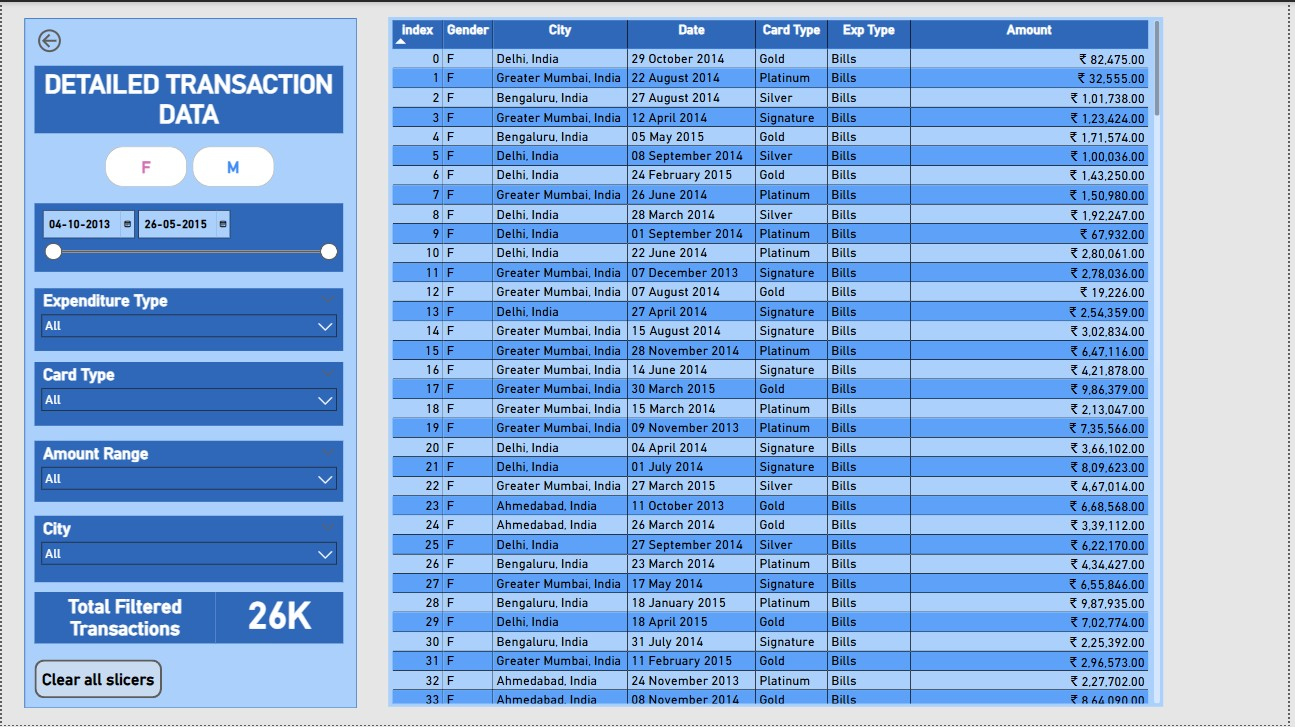

The dashboard page shown, as its layout file describes it:
{"tool":"powerbi","page":{"name":"Page 2","canvas":[1920,1080],"ordinal":1},"visuals":[{"type":"card","fields":{"Values":["Indian_credit_card.count"]},"box":[319.1,880.7,190.3,76.5],"z":0,"group":"g1"},{"type":"shape","box":[33.6,24.3,496.3,1030],"z":0},{"type":"textbox","box":[48.5,880.7,270.6,76.5],"z":1000,"group":"g1"},{"type":"slicer","fields":{"Values":["Indian_credit_card.Date"]},"box":[48.5,300.4,460.9,102.6],"z":1000},{"type":"advancedSlicerVisual","fields":{"Values":["Indian_credit_card.Gender"]},"box":[149.3,210.9,263.1,70.9],"z":2000},{"type":"slicer","fields":{"Values":["Indian_credit_card.Exp Type"]},"box":[48.5,427.3,460.9,93.3],"z":3000},{"type":"slicer","fields":{"Values":["Indian_credit_card.Card Type"]},"box":[48.5,537.4,460.9,95.2],"z":4000},{"type":"slicer","fields":{"Values":["Indian_credit_card.Amount_Range"]},"box":[48.5,654.9,460.9,91.4],"z":5000},{"type":"tableEx","fields":{"Values":["Indian_credit_card.index","Indian_credit_card.Gender","Indian_credit_card.City","Indian_credit_card.Date","Indian_credit_card.Card Type","Indian_credit_card.Exp Type","Indian_credit_card.Amount"]},"box":[576.6,22.4,1156.9,1030],"z":6000},{"type":"slicer","fields":{"Values":["Indian_credit_card.Text Before Delimiter"]},"box":[48.5,766.9,460.9,98.9],"z":7000},{"type":"actionButton","box":[48.5,981.5,190.3,57.8],"z":8000},{"type":"textbox","box":[48.5,95.2,460.9,100.8],"z":9000},{"type":"actionButton","box":[48.5,35.5,56,44.8],"z":10000},{"type":"group","id":"g1","title":"Group 1","box":[48.5,880.7,460.9,76.5],"z":11000}]}

Visuals, with their boxes in screenshot pixels (x1, y1, x2, y2), scaled from the page's 1920x1080 canvas onto the 1295x727 screenshot:
card - Indian_credit_card.count: [215, 593, 344, 644]
shape: [23, 16, 357, 710]
textbox: [33, 593, 215, 644]
slicer - Indian_credit_card.Date: [33, 202, 344, 271]
advancedSlicerVisual - Indian_credit_card.Gender: [101, 142, 278, 190]
slicer - Indian_credit_card.Exp Type: [33, 288, 344, 350]
slicer - Indian_credit_card.Card Type: [33, 362, 344, 426]
slicer - Indian_credit_card.Amount_Range: [33, 441, 344, 502]
tableEx - Indian_credit_card.index x Indian_credit_card.Gender: [389, 15, 1169, 708]
slicer - Indian_credit_card.Text Before Delimiter: [33, 516, 344, 583]
actionButton: [33, 661, 161, 700]
textbox: [33, 64, 344, 132]
actionButton: [33, 24, 70, 54]
"Group 1" group: [33, 593, 344, 644]
